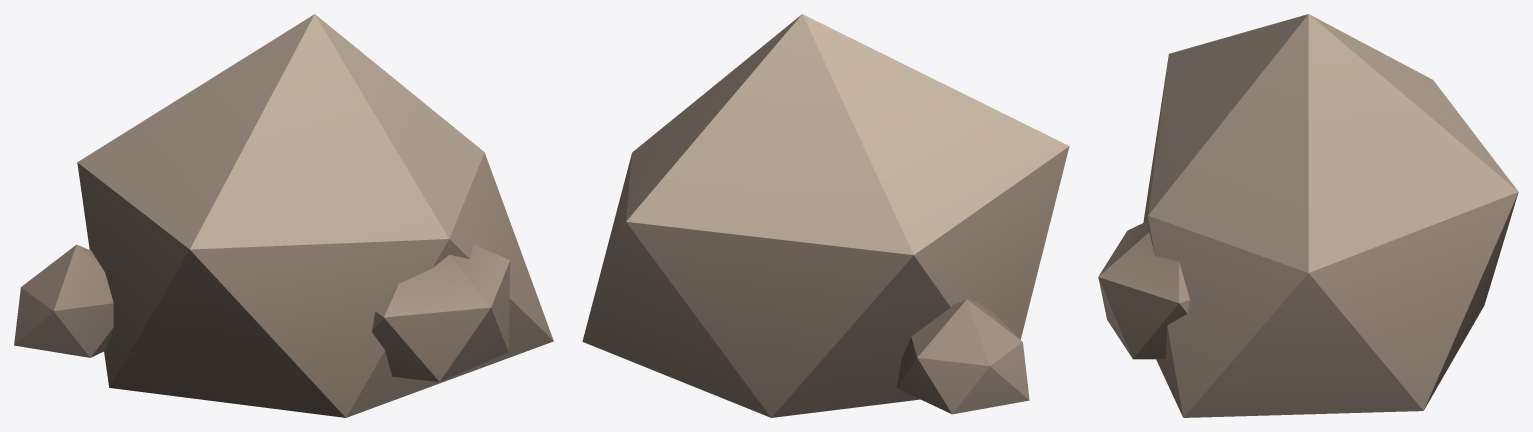
File: rocks_0.glb
3 renders of one model, left to right at view 1: azimuth 30°, elevation 25°; view 2: azimuth 150°, elevation 25°; view 3: azimuth 270°, elevation 25°, orthographic.
Parts seen in each view (by area): view 1: rocks_0; view 2: rocks_0; view 3: rocks_0.
Part boxes in pixels (x1,y1,x2,y2): rocks_0: (14, 14, 553, 417); rocks_0: (582, 14, 1069, 417); rocks_0: (1098, 14, 1518, 417).
Bounding box in the file's own units: 4 × 2.82 × 3.36.
